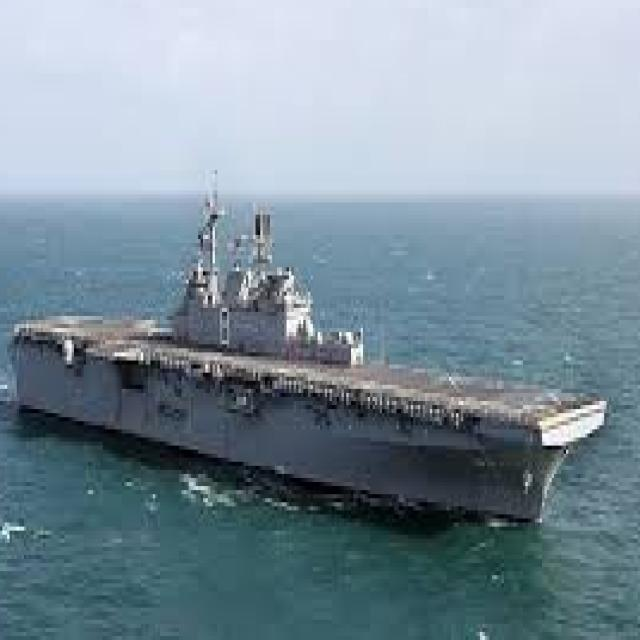navalvessels: (3, 187, 609, 550)
